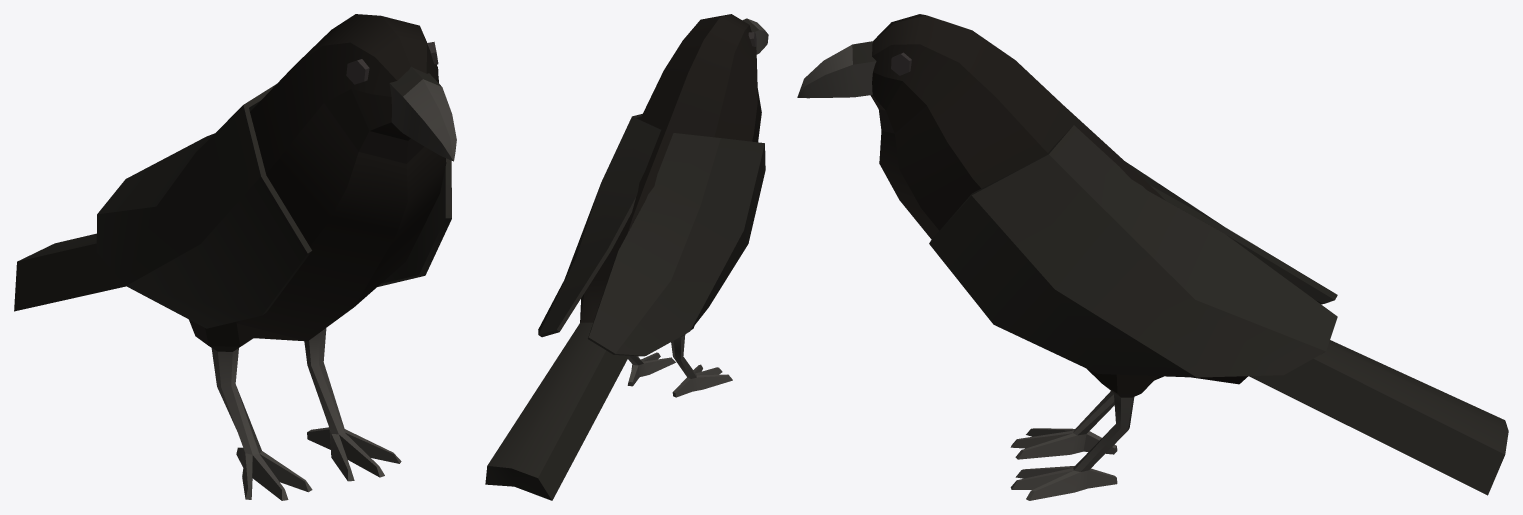
Rendered from 496932f1-1def-4766-aaf5-63cdad5612b4.glb.
The picture shows the model from 3 angles, left to right: view 1: azimuth 30°, elevation 25°; view 2: azimuth 150°, elevation 25°; view 3: azimuth 270°, elevation 25°; orthographic projection. The views are drawn at different scales.
Visible parts, largest first — view 1: Geo_Raven; view 2: Geo_Raven; view 3: Geo_Raven.
Part boxes in pixels (box(x1,y1,x2,y2)): Geo_Raven: box(14, 14, 456, 500); Geo_Raven: box(485, 14, 768, 500); Geo_Raven: box(797, 14, 1508, 500).
Bounding box in the file's own units: 23.03 × 51.87 × 73.12.
1 material, 1 textured.
